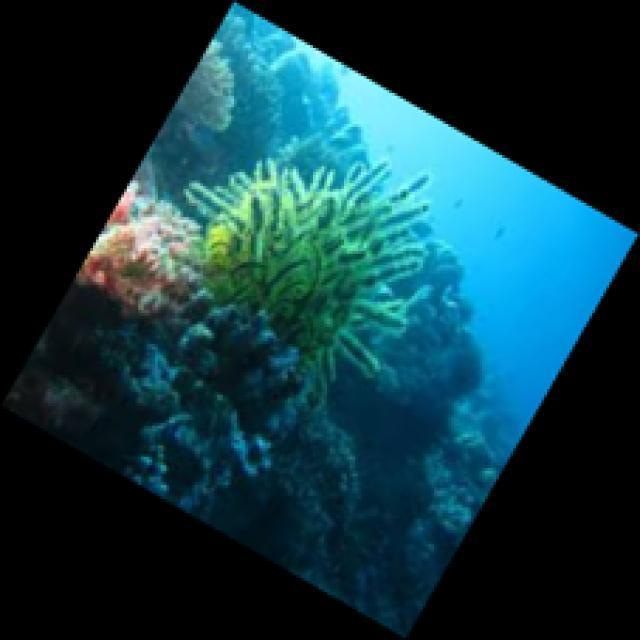Healthy: (192, 161, 433, 381), (75, 187, 204, 317)
